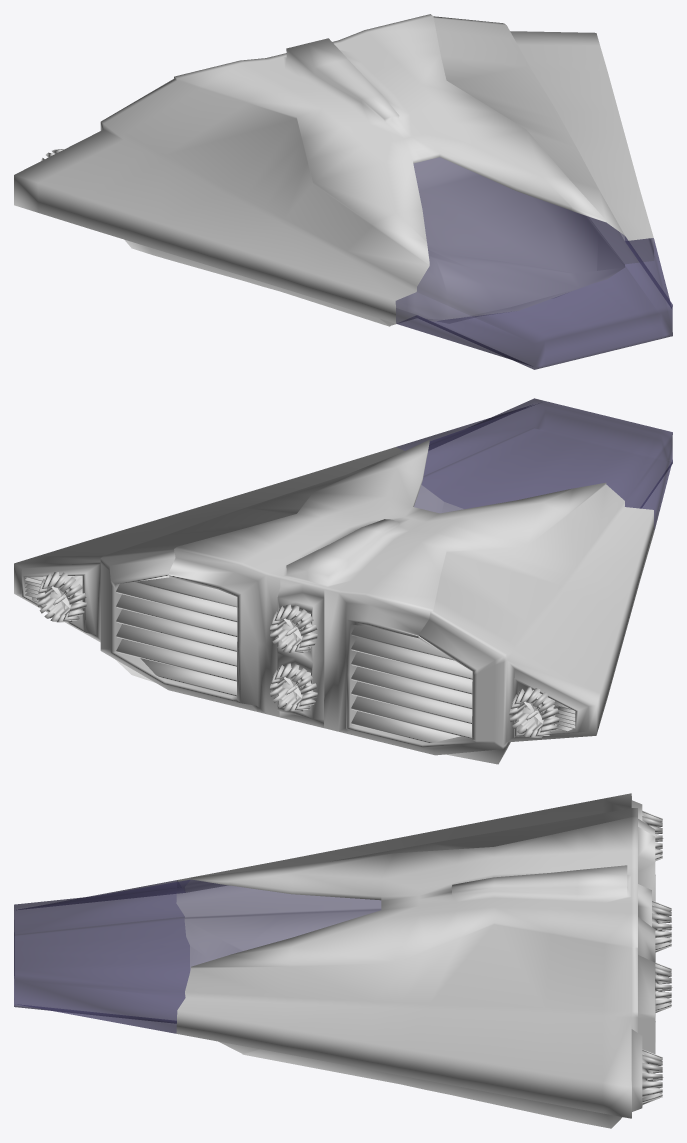
Rendered from raumschiff7.fbx.
3 views of the same model, one above another, from view 1: azimuth 30°, elevation 25°; view 2: azimuth 150°, elevation 25°; view 3: azimuth 270°, elevation 25° (orthographic). The views are drawn at different scales.
Parts seen in each view (by area): view 1: Plane_001, Plane_000; view 2: Plane_001, Plane_002, Plane_000, Plane_003; view 3: Plane_001, Plane_000, Plane_003.
Part boxes in pixels (x1,y1,x2,y2): Plane_001: (14,14,654,326); Plane_000: (395,157,672,369); Plane_001: (14,439,654,764); Plane_002: (116,577,472,742); Plane_000: (396,398,672,530); Plane_003: (25,572,575,737); Plane_001: (176,793,655,1128); Plane_000: (14,879,381,1033); Plane_003: (642,810,672,1104).
Bounding box in the file's own units: 3.29 × 0.8371 × 3.11.
